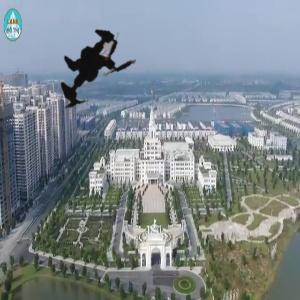drone: (31, 8, 162, 139)
